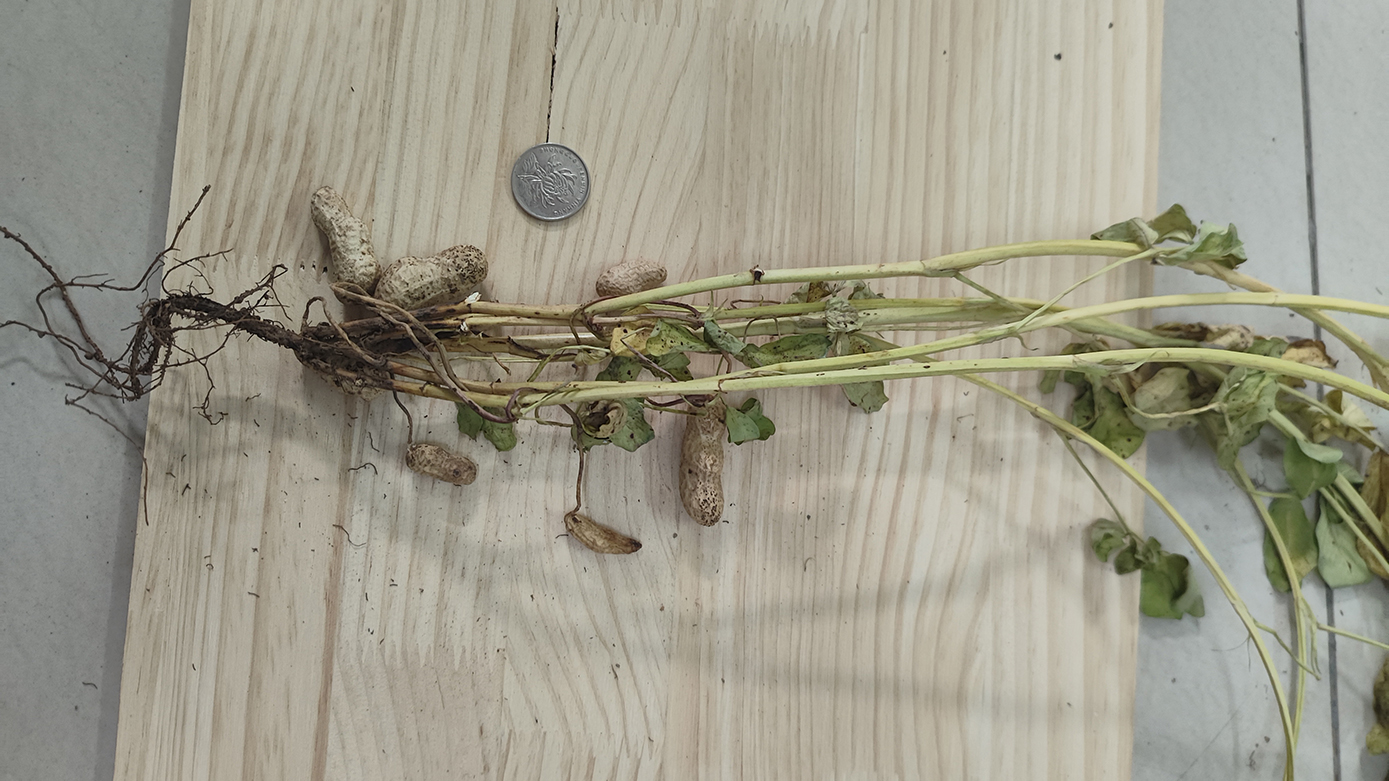h: (374, 245, 489, 310), (311, 188, 382, 288), (680, 398, 725, 527), (407, 441, 478, 486), (596, 261, 668, 300)
l: (564, 512, 642, 555)
